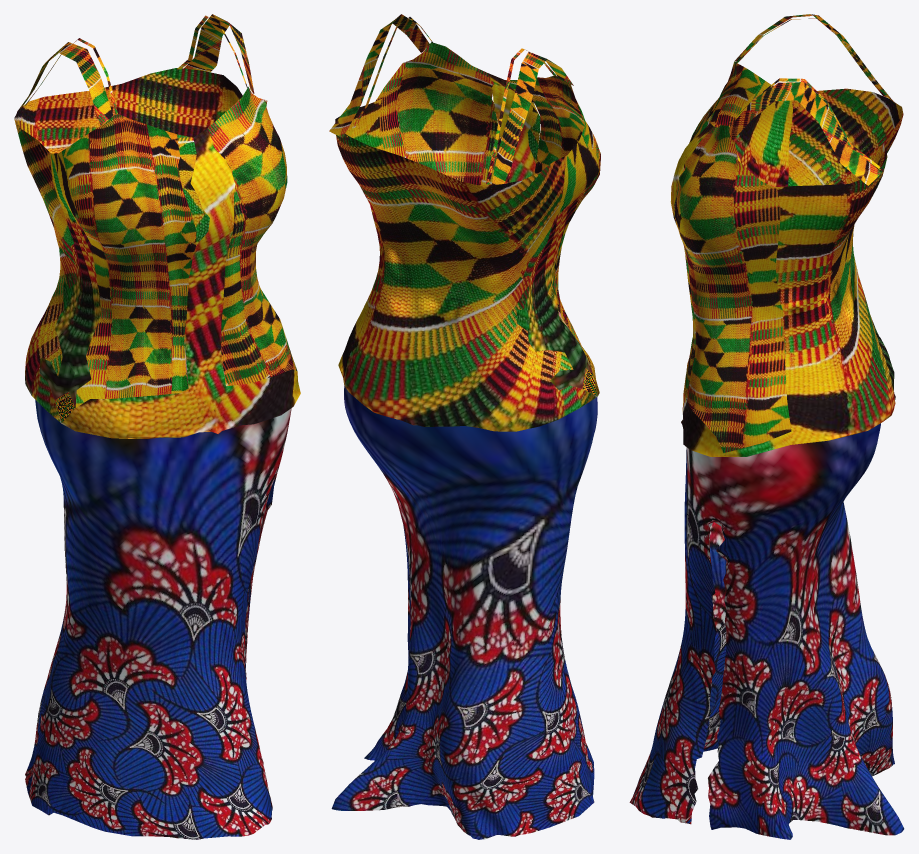
File: gown.glb
The picture shows the model from 3 angles, left to right: view 1: azimuth 30°, elevation 25°; view 2: azimuth 150°, elevation 25°; view 3: azimuth 270°, elevation 25°; orthographic projection.
Visible parts, largest first — view 1: down, top_pattern, top, right_hand, left_hand; view 2: down, top, top_pattern, left_hand, right_hand; view 3: down, top, top_pattern, right_hand, left_hand.
Part boxes in pixels (x1,y1,x2,y2): down: (25,275,291,839); top_pattern: (51,87,297,423); top: (14,68,300,438); right_hand: (176,14,254,93); left_hand: (17,38,117,125); down: (331,311,597,839); top: (335,73,599,431); top_pattern: (376,42,600,396); left_hand: (486,48,573,184); right_hand: (329,14,433,140); down: (629,423,904,839); top: (670,88,903,456); top_pattern: (673,61,792,452); right_hand: (728,78,883,185); left_hand: (734,14,895,103).
Bounding box in the file's own units: 0.3051 × 0.9395 × 0.3116.
Materials: 2 (2 with a texture image).
